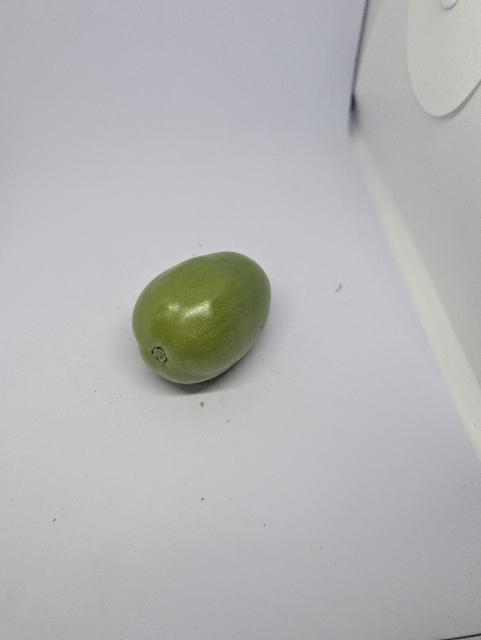green: (132, 235, 285, 402)
